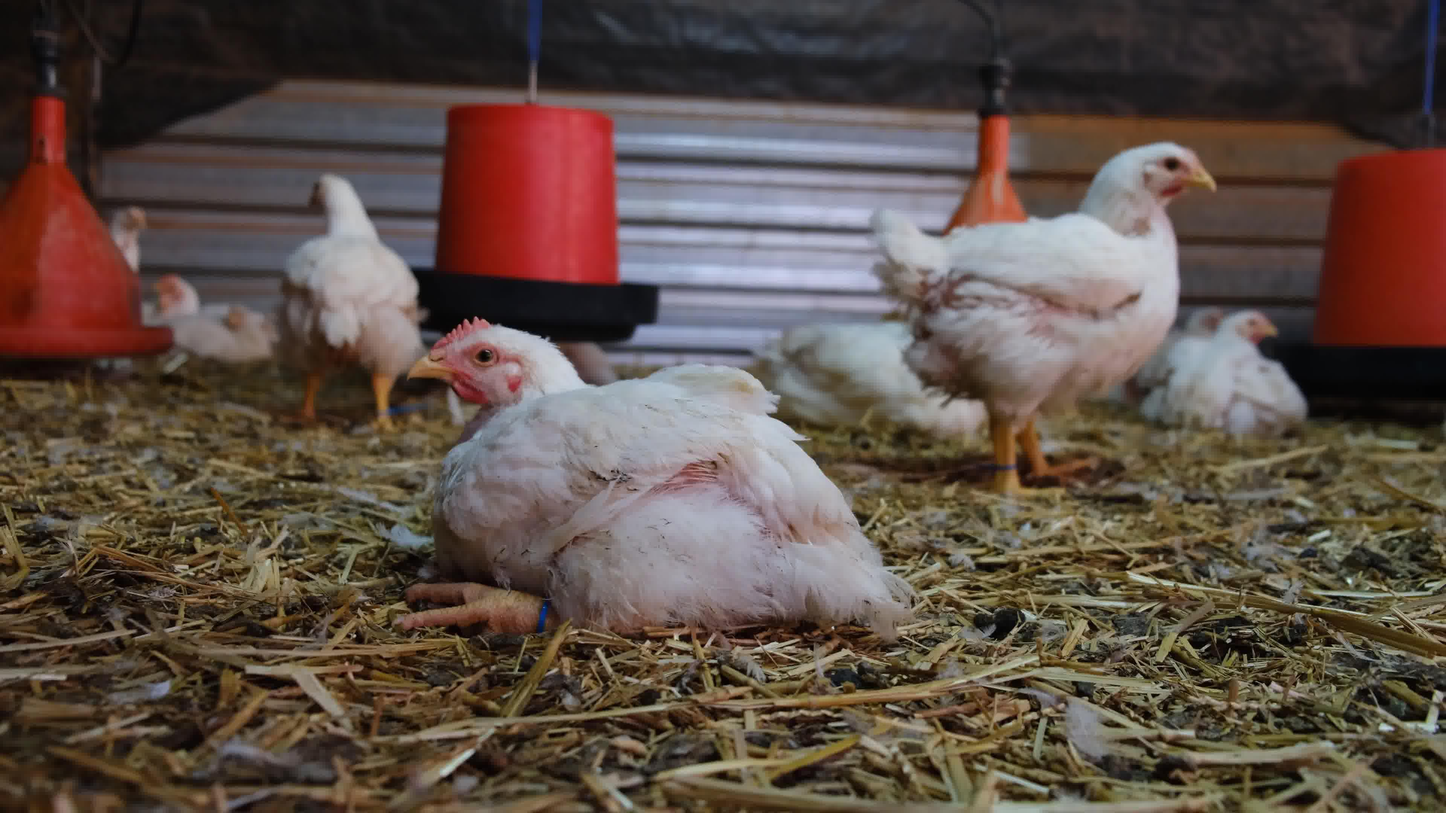AbNormal: (386, 286, 955, 659), (747, 277, 1020, 448), (1197, 301, 1329, 454), (136, 247, 281, 371), (1182, 277, 1252, 431)
Normal: (874, 141, 1205, 478), (279, 156, 444, 429), (87, 177, 181, 288)
